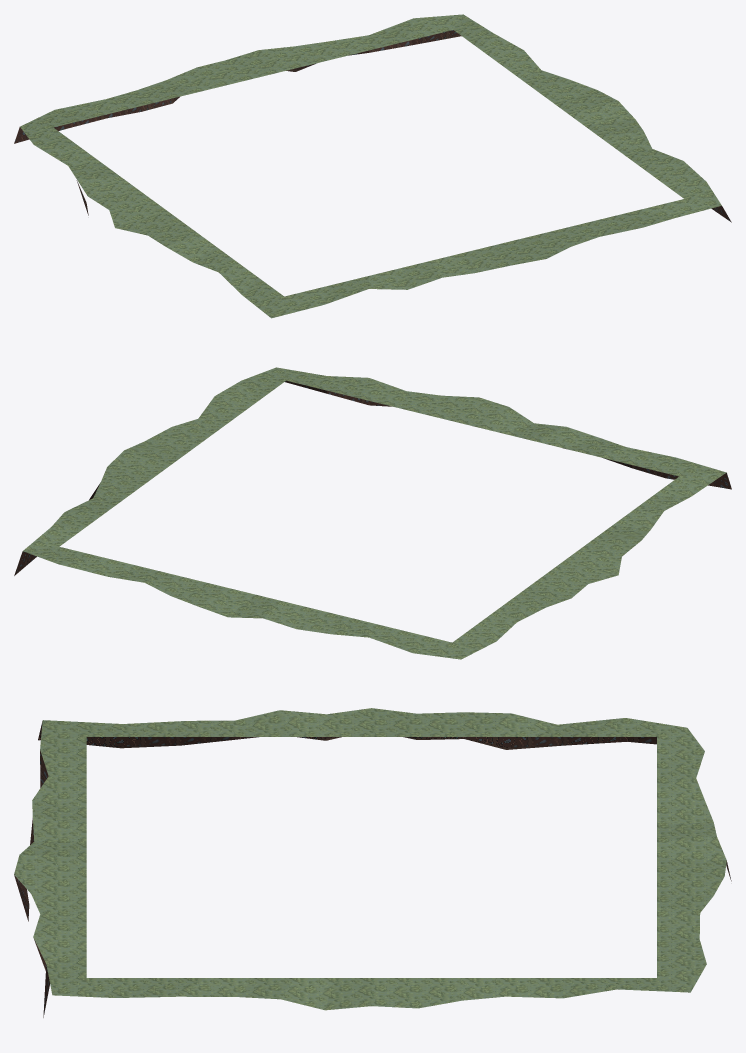
File: entorno_16.glb
3 renders of one model, top to bottom at view 1: azimuth 30°, elevation 25°; view 2: azimuth 150°, elevation 25°; view 3: azimuth 270°, elevation 25°, orthographic. The views are drawn at different scales.
Parts seen in each view (by area): view 1: bosque_entorno_16; view 2: bosque_entorno_16; view 3: bosque_entorno_16.
Part boxes in pixels (<box>): bosque_entorno_16: <box>14,14,731,318</box>; bosque_entorno_16: <box>14,367,731,659</box>; bosque_entorno_16: <box>14,708,731,1017</box>.
Size of the model in its own units: 20.59 by 1.07 by 20.39.
2 materials, 2 textured.
